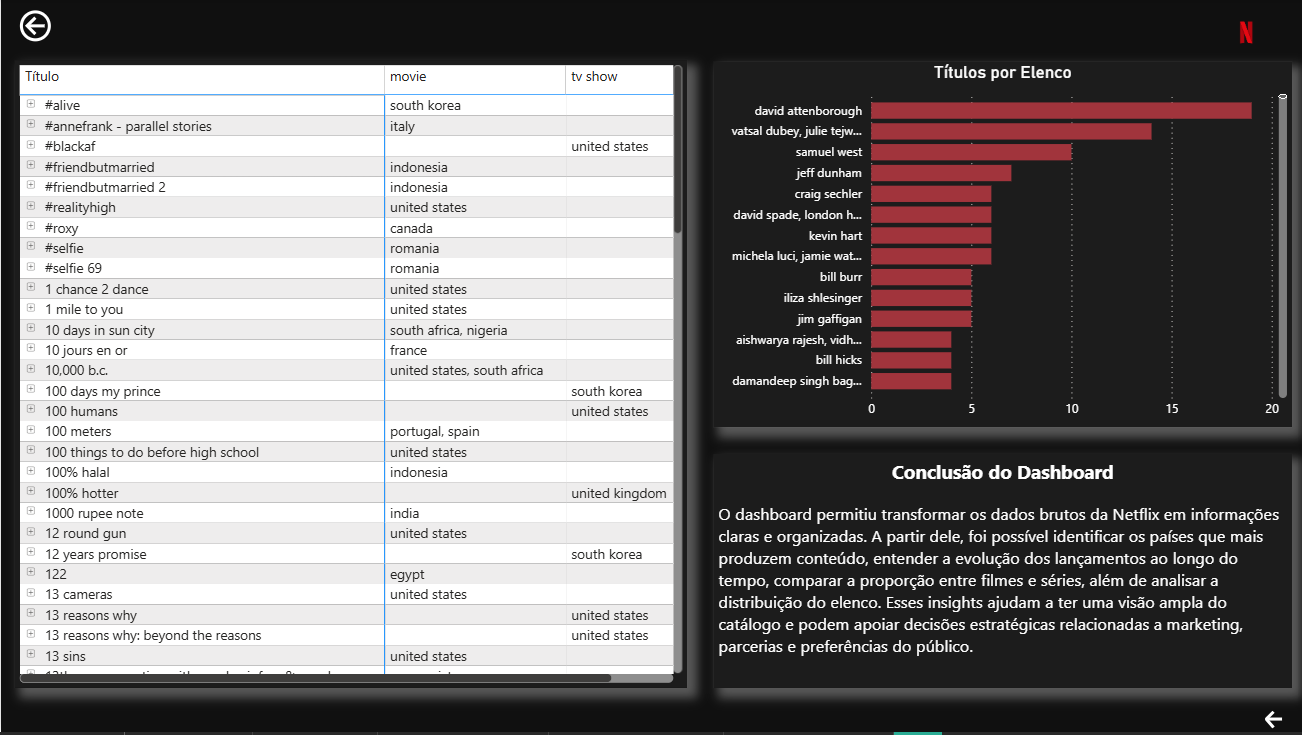

Layout of this report page (visuals, bound fields, positions):
{"tool":"powerbi","page":{"name":"Análise de Elenco","canvas":[1280,720],"ordinal":4},"visuals":[{"type":"image","box":[1179.1,6.1,88.3,54],"z":0},{"type":"actionButton","box":[13.5,6.1,42.9,40.5],"z":1000},{"type":"clusteredBarChart","title":"Títulos por Elenco","fields":{"Category":["titles_clean.cast"],"Y":["00_Medidas.TotTitulos"]},"box":[699.4,61.4,568.1,359.5],"z":2000},{"type":"pivotTable","fields":{"Rows":["titles_clean.title","titles_clean.cast"],"Values":["Min(titles_clean.country)"],"Columns":["titles_clean.type"]},"box":[13.5,60.1,660.1,616],"z":3000},{"type":"actionButton","box":[1236.8,694.5,30.7,25.8],"z":4000},{"type":"textbox","box":[699.4,446.6,568.1,229.4],"z":5000}]}

Visuals, with their boxes on the page's 1280x720 design canvas (x1, y1, x2, y2). These are canvas units, not pixel positions in the 1302x735 screenshot, which may show the page scaled, cropped or inside an application window:
image: locate(1179, 6, 1267, 60)
actionButton: locate(14, 6, 56, 47)
"Títulos por Elenco" clusteredBarChart: locate(699, 61, 1268, 421)
pivotTable - titles_clean.title x titles_clean.cast: locate(14, 60, 674, 676)
actionButton: locate(1237, 694, 1268, 720)
textbox: locate(699, 447, 1268, 676)
